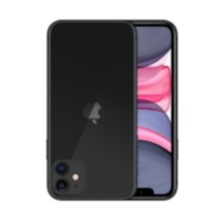phone: (41, 18, 139, 203), (93, 19, 181, 204)
